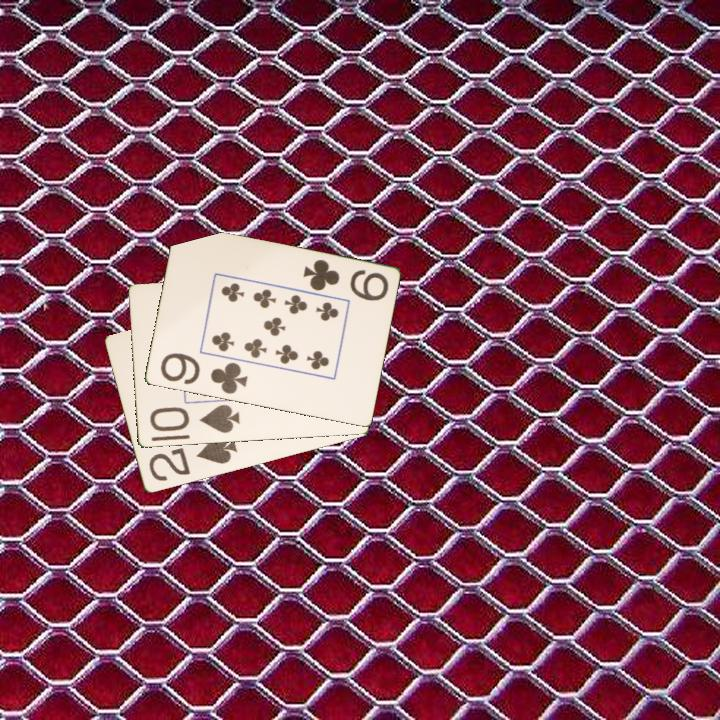10s: (146, 401, 243, 436)
2s: (145, 432, 240, 484)
9c: (156, 349, 251, 397), (299, 256, 391, 304)
